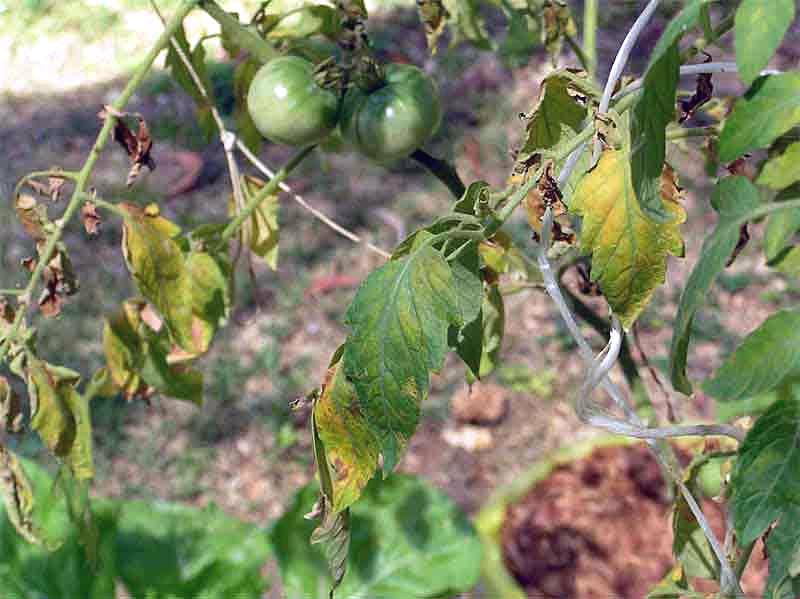Tomato mold leaf: (302, 245, 465, 538), (564, 135, 708, 348), (108, 203, 205, 346)
